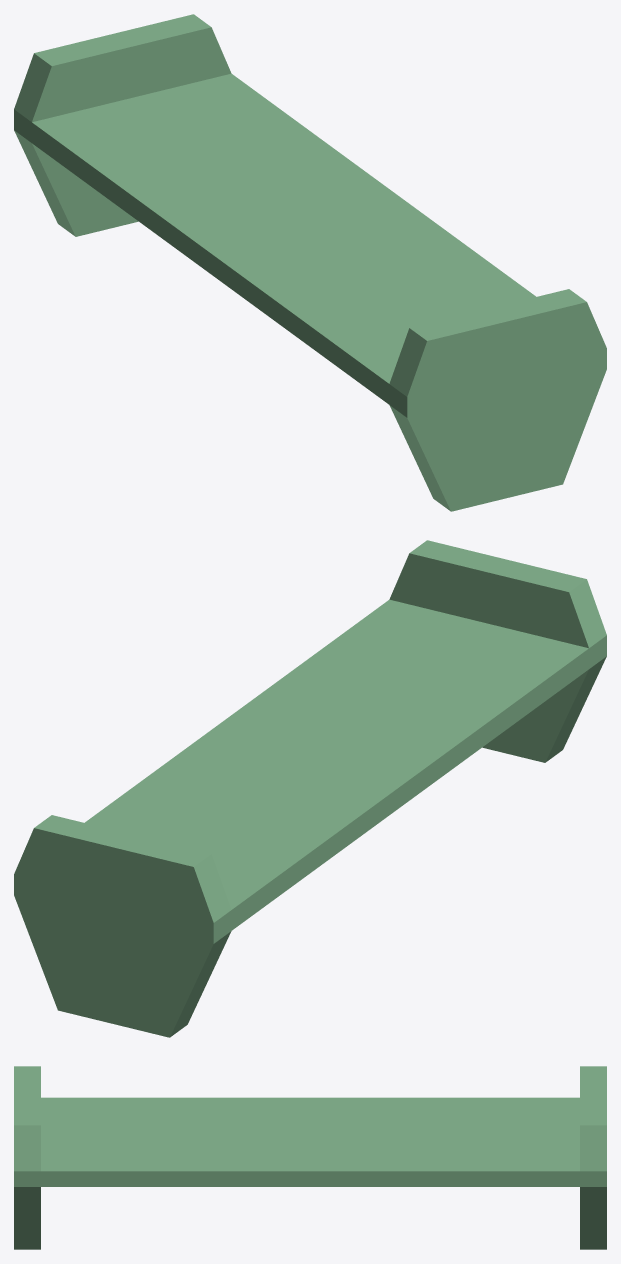
Rendered from Стул 2.fbx.
3 renders of one model, top to bottom at view 1: azimuth 30°, elevation 25°; view 2: azimuth 150°, elevation 25°; view 3: azimuth 270°, elevation 25°, orthographic. The views are drawn at different scales.
Visible parts, largest first — view 1: Cube; view 2: Cube; view 3: Cube.
Boxes of the visible parts, x1,y1,x2,y2 form: Cube: (14,14,606,511); Cube: (14,540,606,1037); Cube: (14,1066,606,1249).
Bounding box in the file's own units: 240 × 203 × 818.
